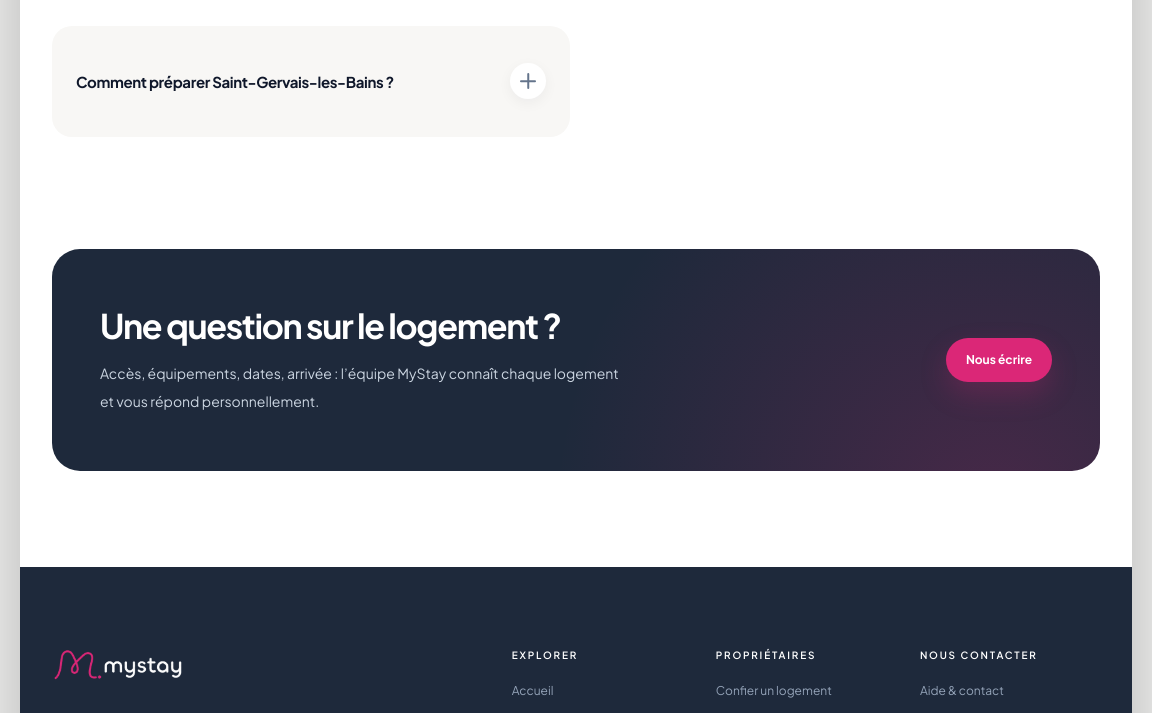
it: 046 AC-03-09 / AC-03-13 — booking-oriented CTAs › AC-03-13: ends with « Une question sur le logement ? » opening the traveler form
(page scrolled)
Click the button "Nous écrire": x=999, y=360 [946,338,1052,382]
(page scrolled)
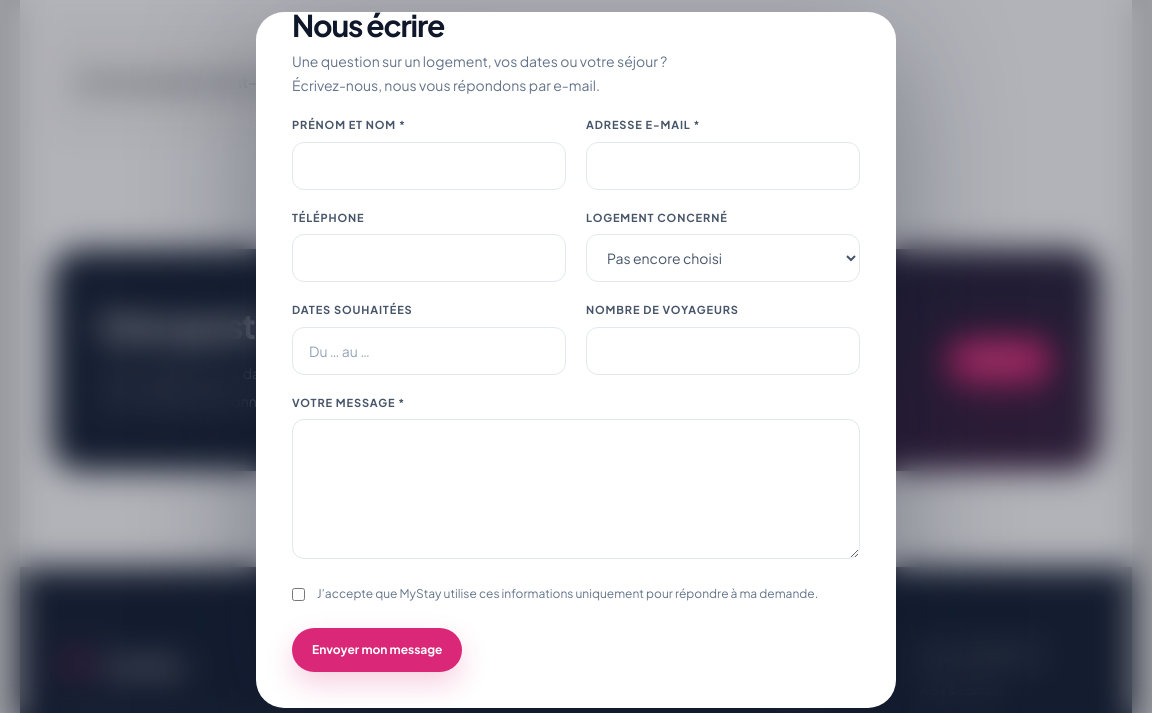
expect the form named "Message voyageur" is shown: met, box [292,117,860,672]
